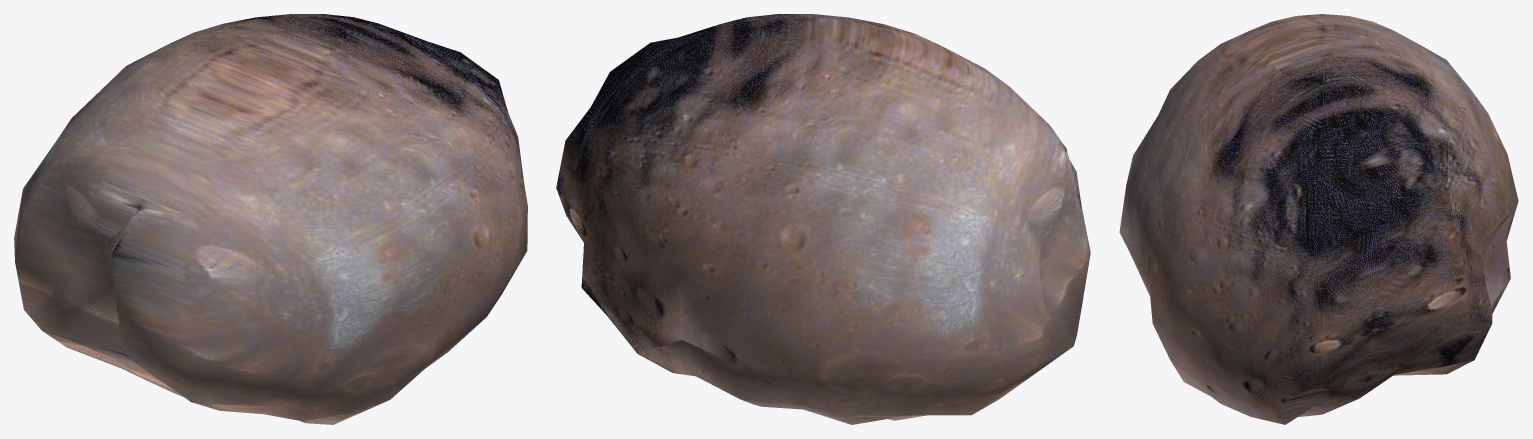
The model's file is phobos2.dae.
The picture shows the model from 3 angles, left to right: view 1: azimuth 30°, elevation 25°; view 2: azimuth 150°, elevation 25°; view 3: azimuth 270°, elevation 25°; orthographic projection. The views are drawn at different scales.
Visible parts, largest first — view 1: Model; view 2: Model; view 3: Model.
Boxes of the visible parts, x1=… form: Model: x1=14, y1=14, x2=527, y2=424; Model: x1=556, y1=14, x2=1090, y2=424; Model: x1=1119, y1=14, x2=1518, y2=424.
Bounding box in the file's own units: 399 × 297 × 282.
Materials: 2 (1 with a texture image).
